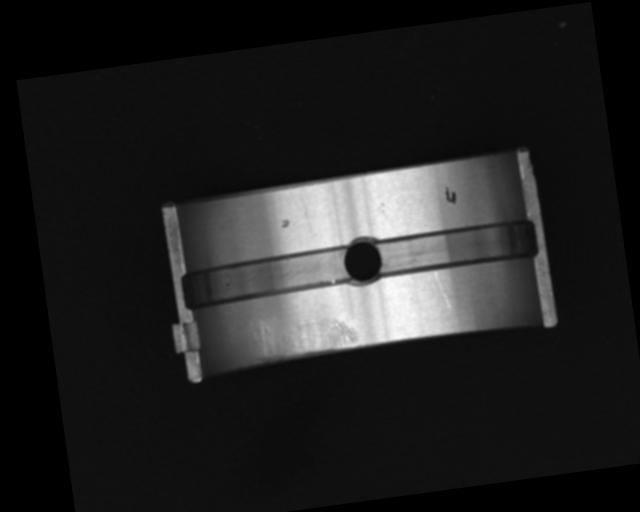blot: (443, 185, 457, 207)
bruise: (279, 218, 290, 229)
gap: (179, 244, 356, 311), (372, 216, 542, 280)
hole: (340, 234, 386, 291)
nick: (434, 269, 453, 314), (301, 197, 312, 231)
scratch: (249, 307, 361, 365)
